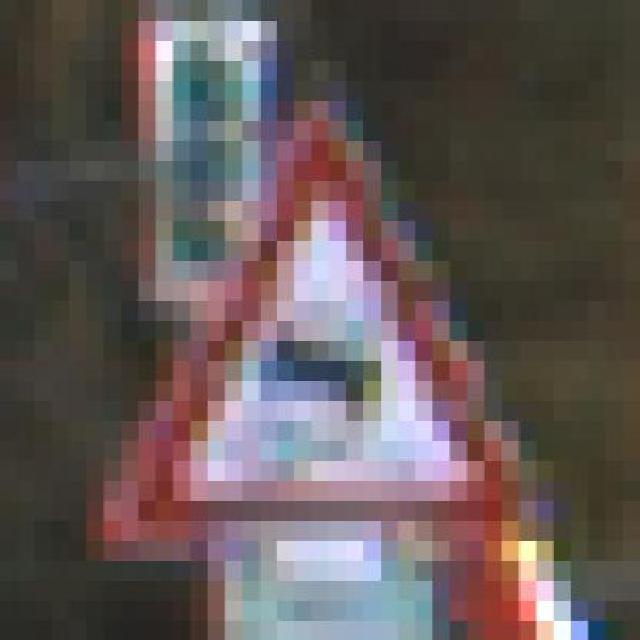Slippery Road Ahead: (69, 80, 554, 580)
